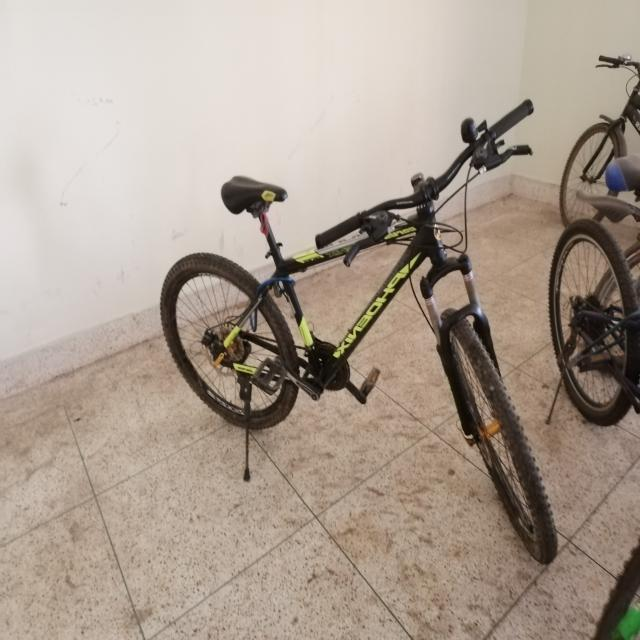Bicycle: (133, 95, 562, 573)
